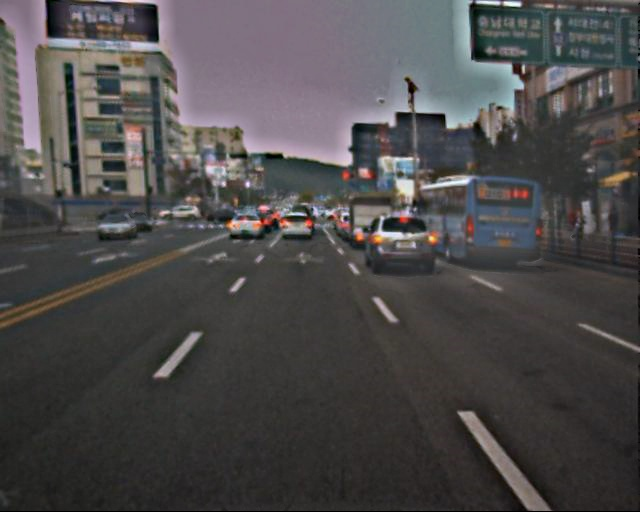person: (601, 206, 622, 250), (567, 209, 583, 239)
